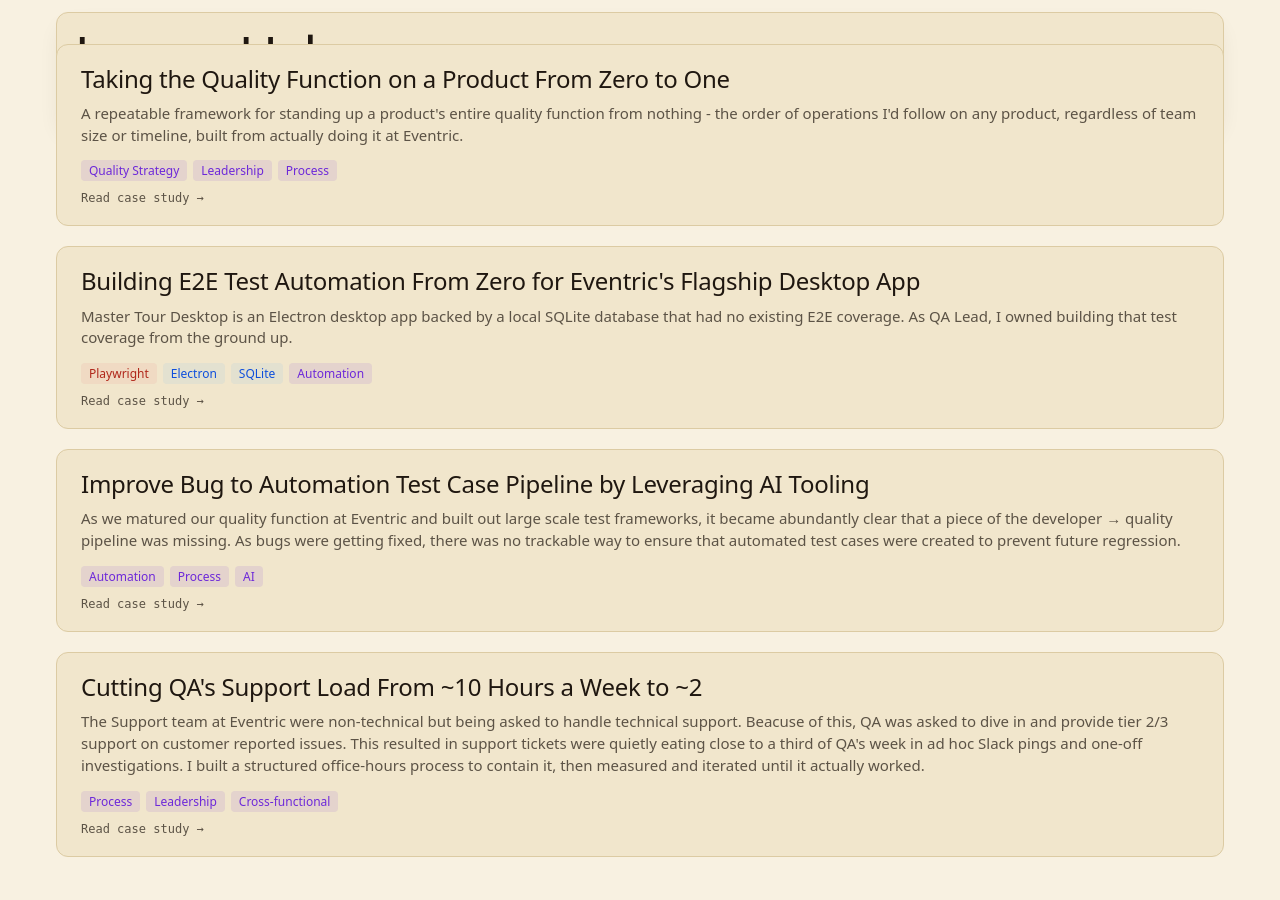
it: CaseStudies › closes the modal when the close button is clicked
The image size is (1280, 900).
Click the 1st button: (640, 135) [56, 44, 1224, 226]
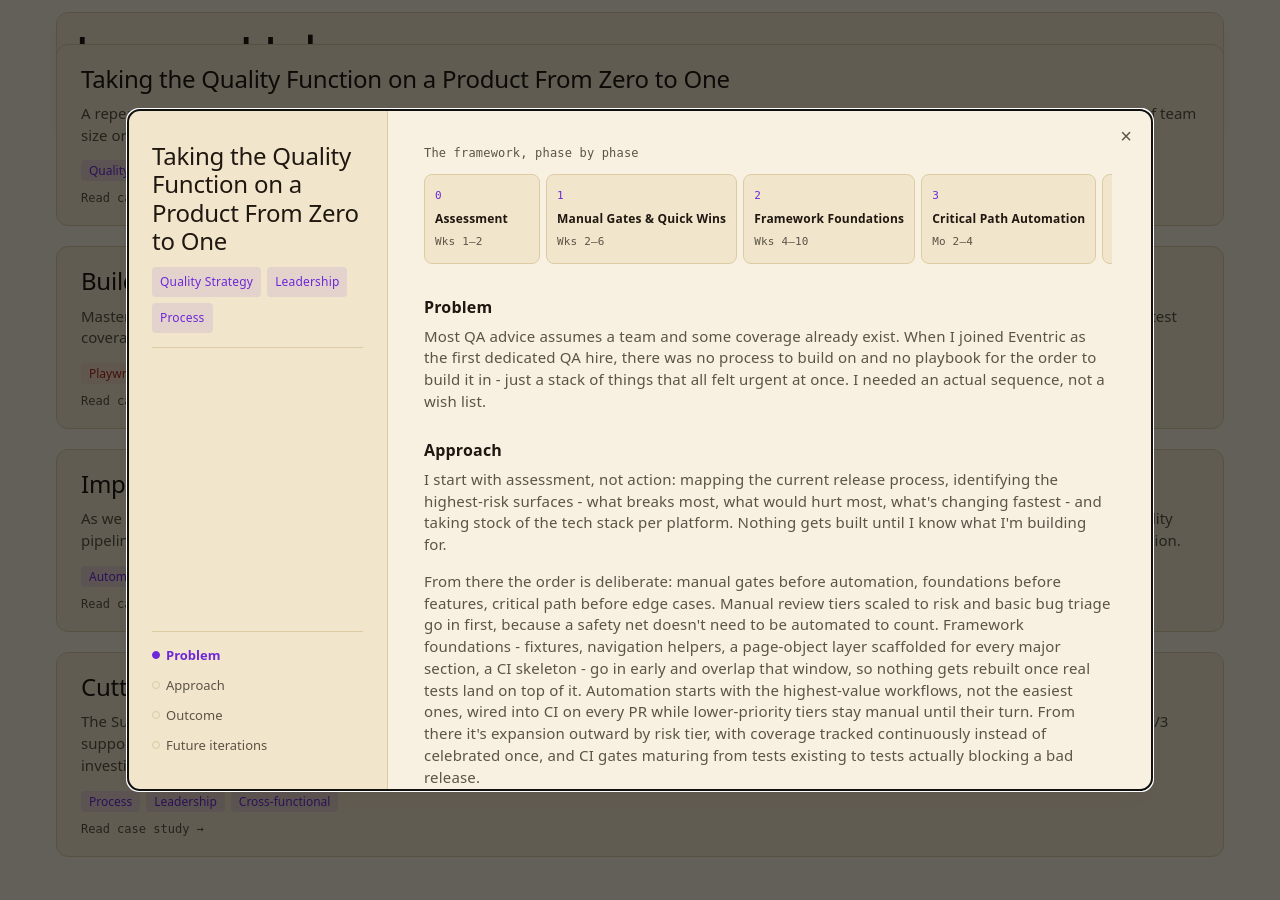
Click the button named "Close": (1126, 136) [1112, 122, 1140, 150]
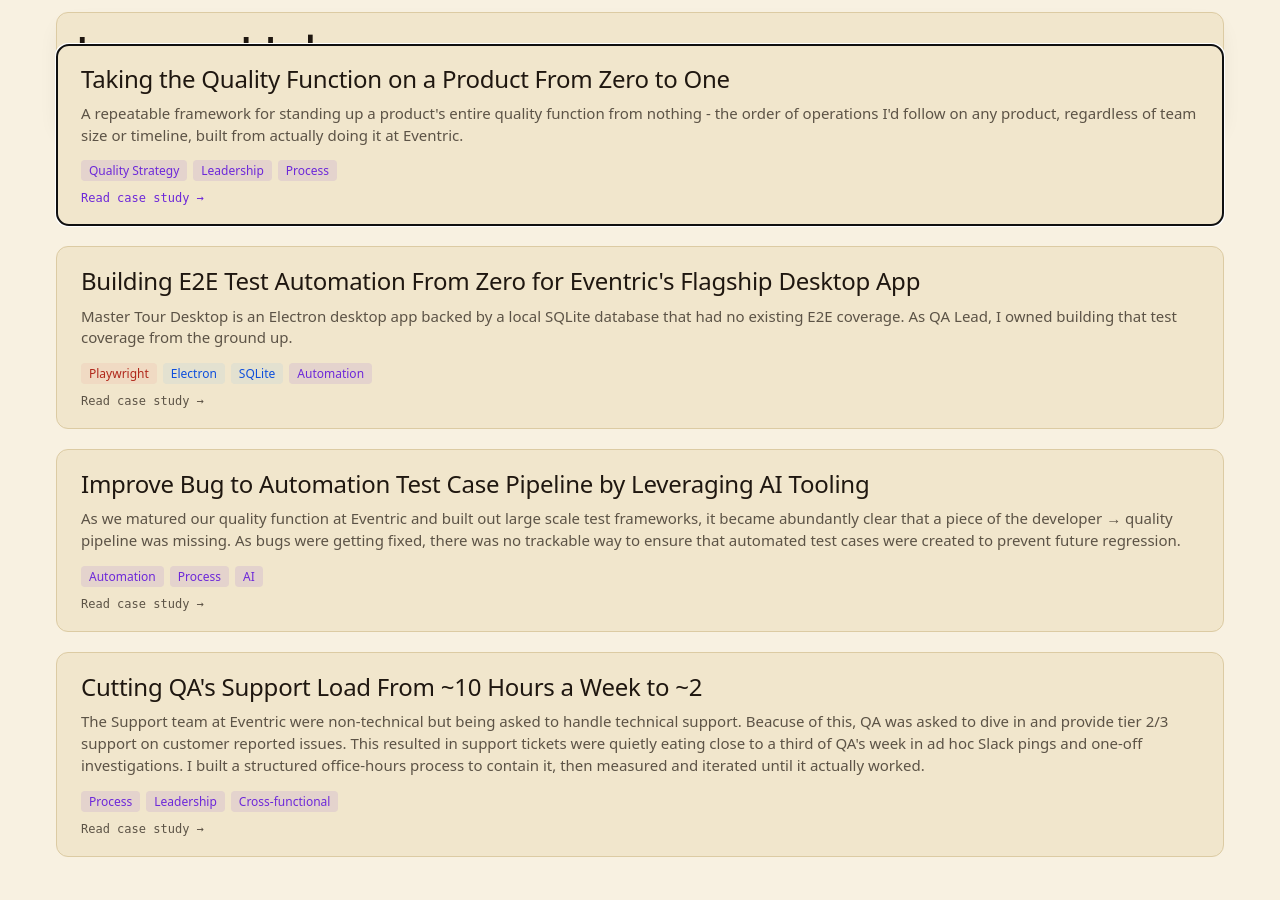
Result: the dialog is gone
